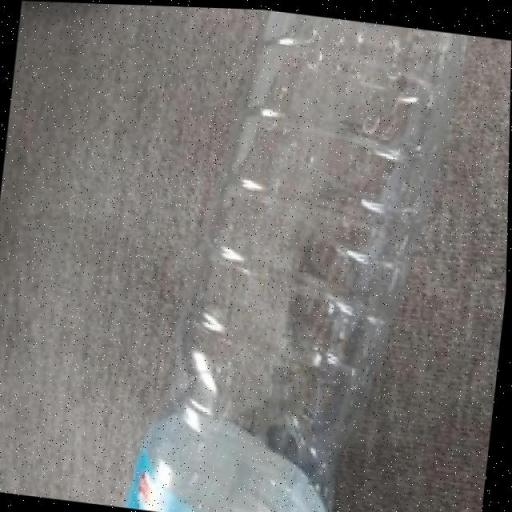plastic: (126, 4, 470, 512)
